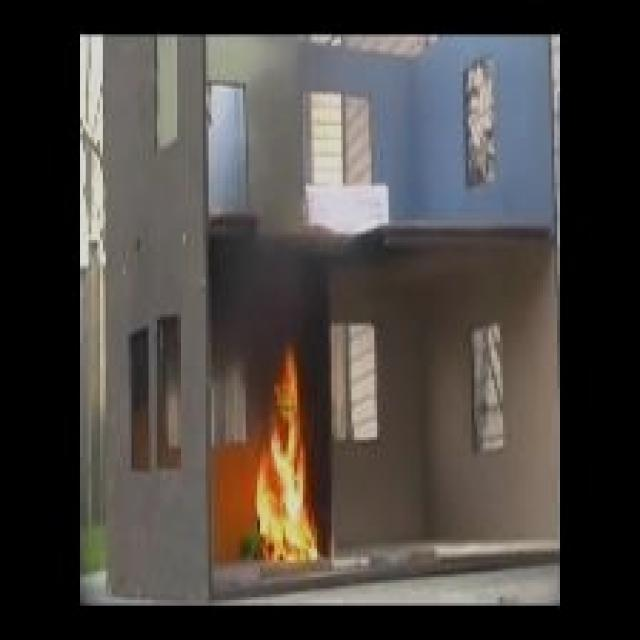fire: (240, 337, 317, 560)
